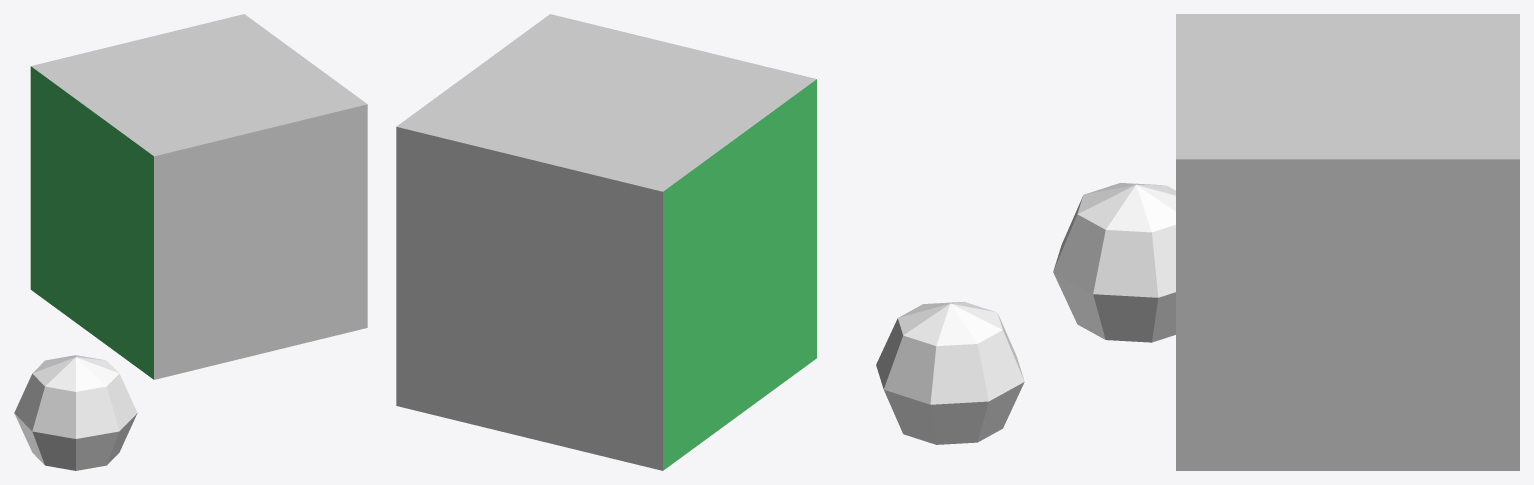
Rendered from crate_assimp_blender.glb.
3 renders of one model, left to right at view 1: azimuth 30°, elevation 25°; view 2: azimuth 150°, elevation 25°; view 3: azimuth 270°, elevation 25°, orthographic. The views are drawn at different scales.
Parts seen in each view (by area): view 1: Cube-0, Cube-1, Knob; view 2: Cube-0, Cube-1, Knob; view 3: Cube-0, Knob.
Part boxes in pixels (bbox=[...]): Cube-0: bbox=[31, 14, 367, 379]; Cube-1: bbox=[30, 66, 153, 379]; Knob: bbox=[14, 355, 137, 470]; Cube-0: bbox=[396, 14, 816, 470]; Cube-1: bbox=[663, 79, 816, 470]; Knob: bbox=[876, 301, 1024, 444]; Cube-0: bbox=[1176, 14, 1519, 470]; Knob: bbox=[1053, 183, 1175, 342].
Bounding box in the file's own units: 0.0335 × 0.025 × 0.0272.
